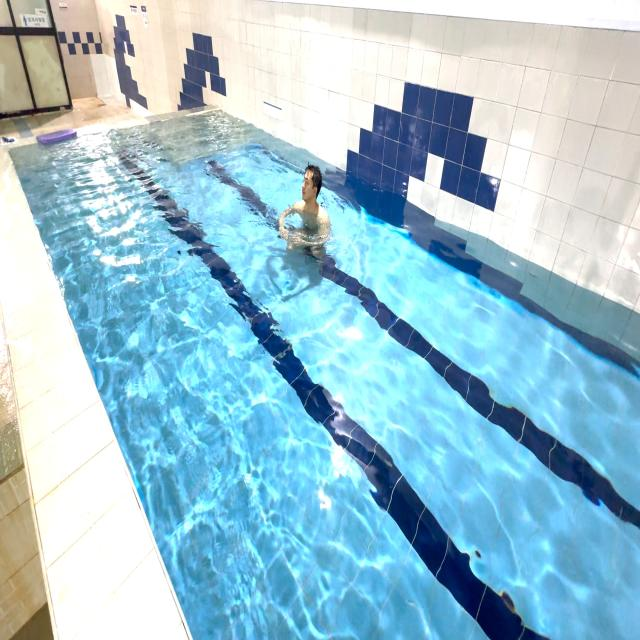Swimming: (271, 150, 343, 276)
